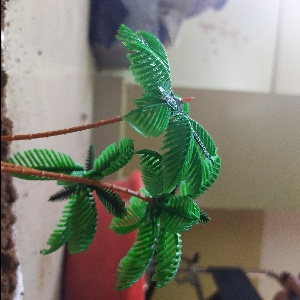plant: (11, 17, 228, 290)
